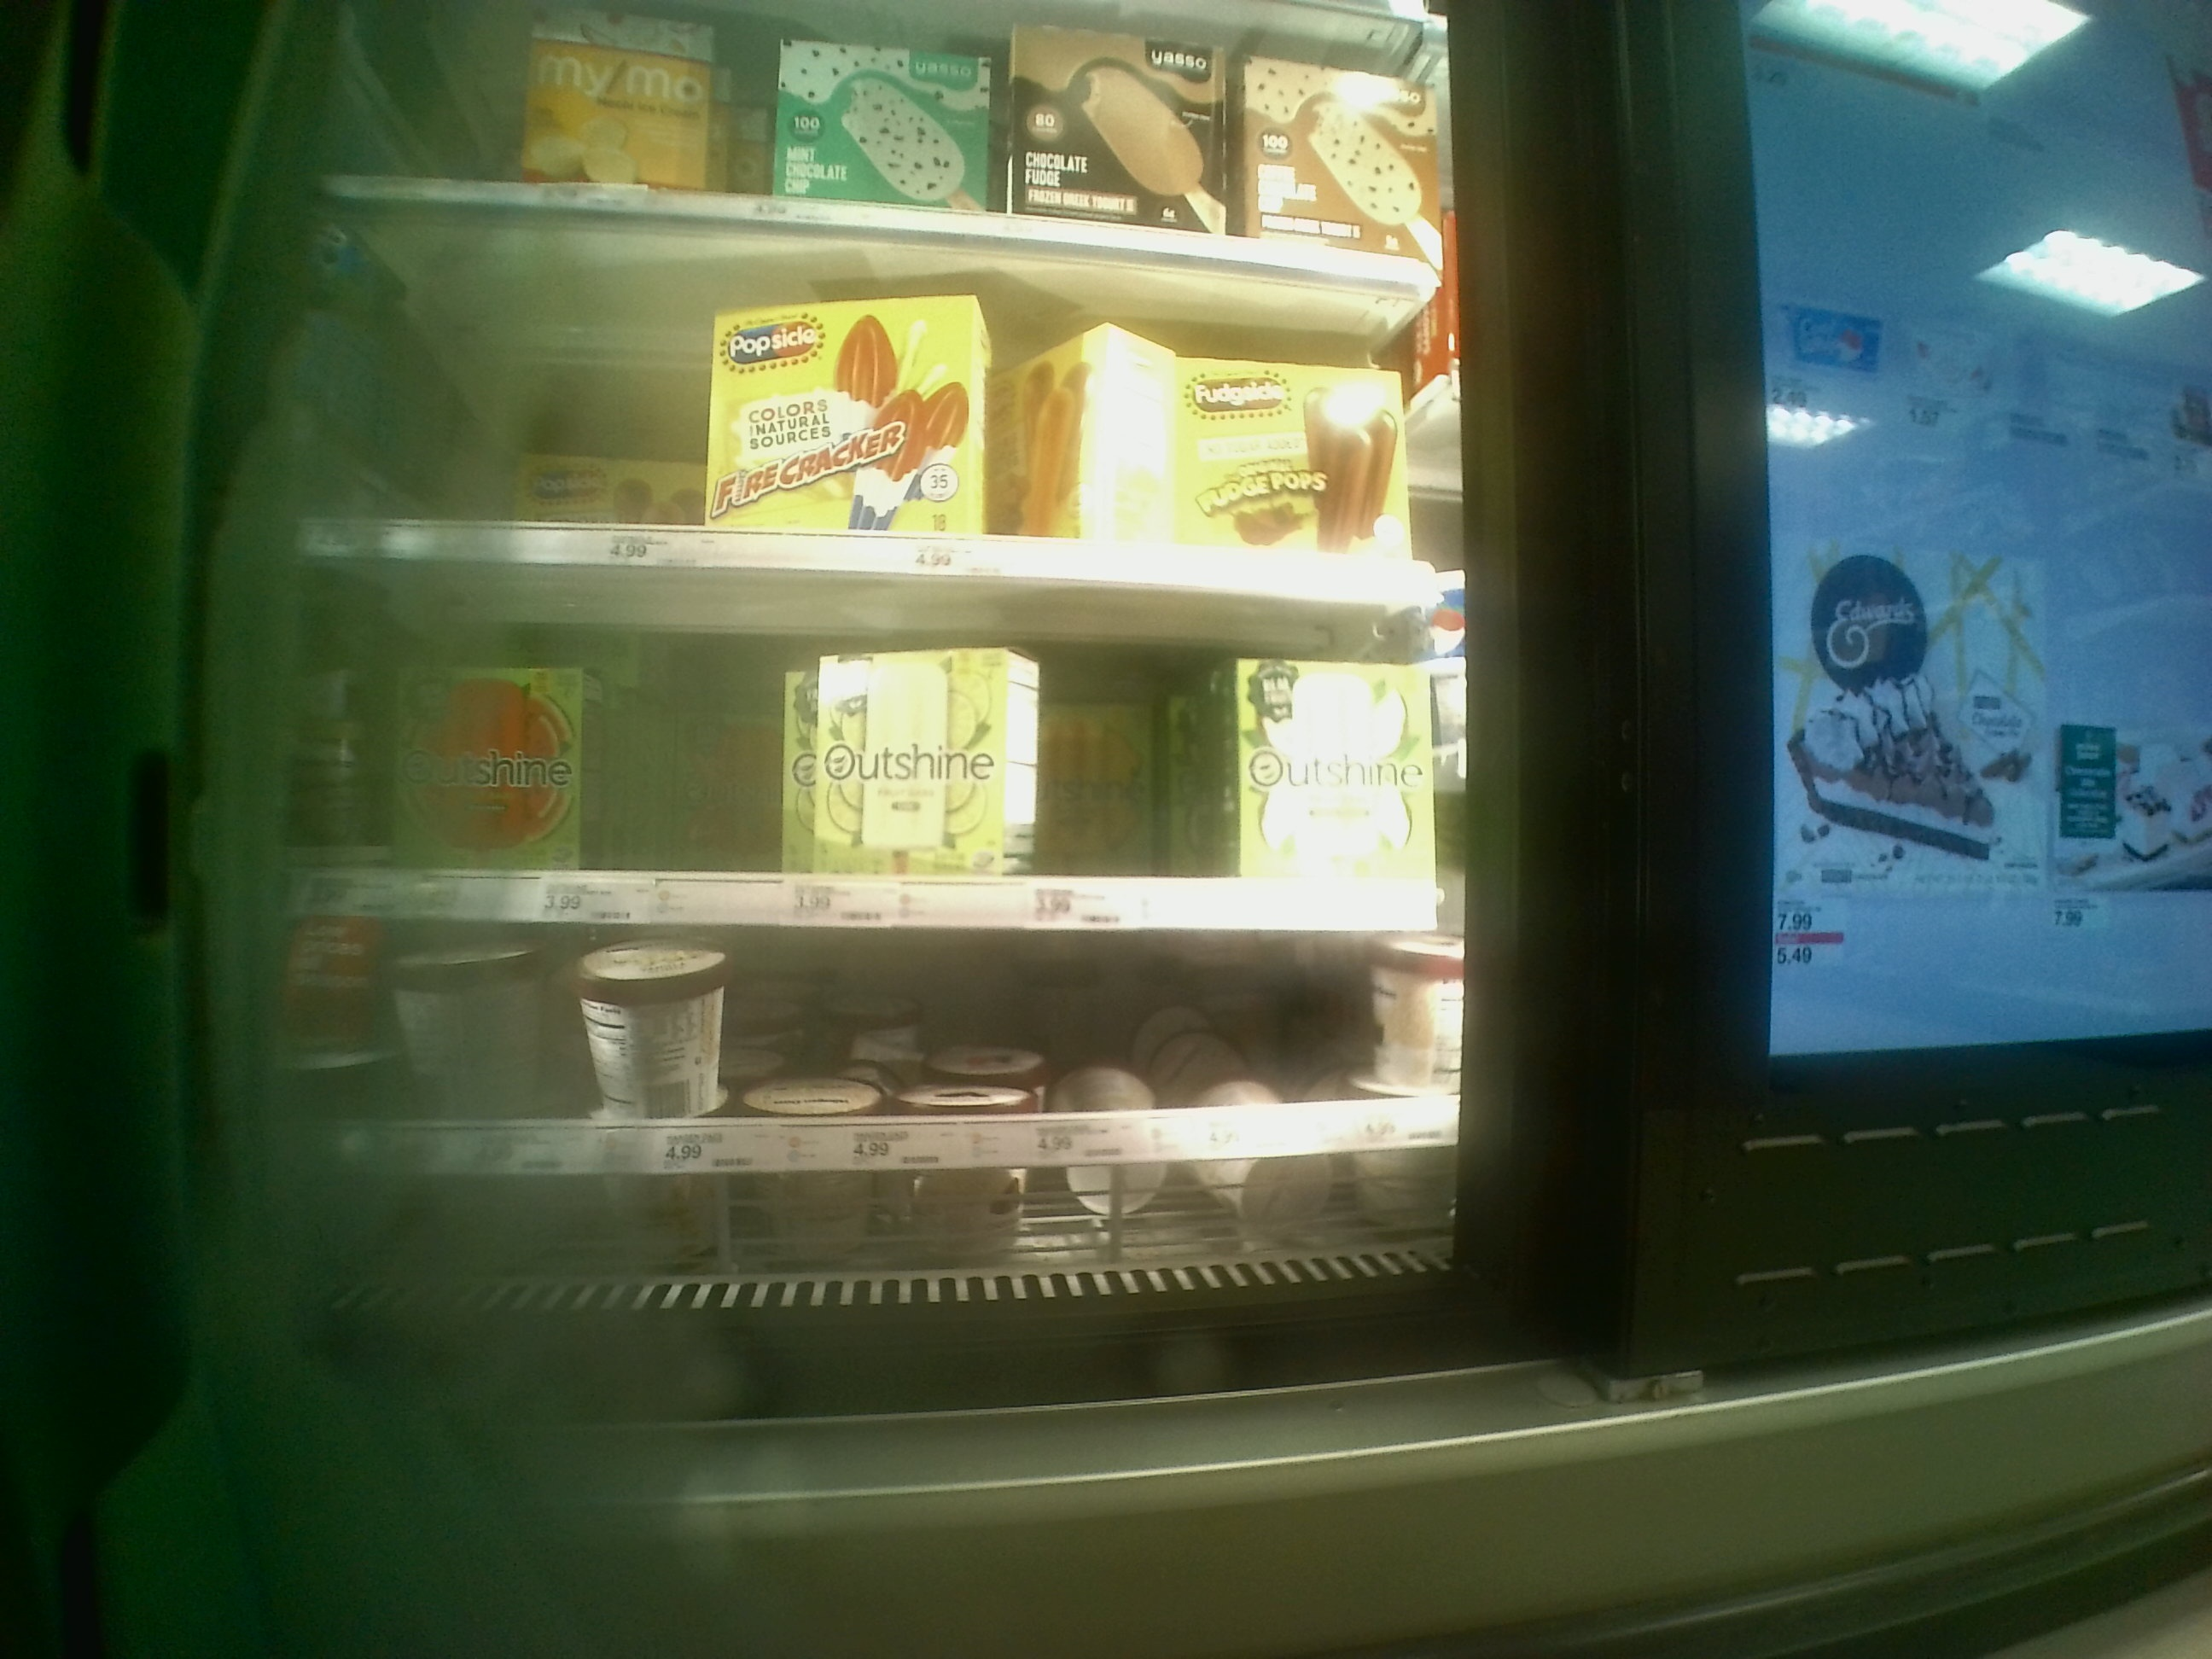ice-cream-shelf: (294, 556, 1463, 918), (294, 918, 1465, 1171)
